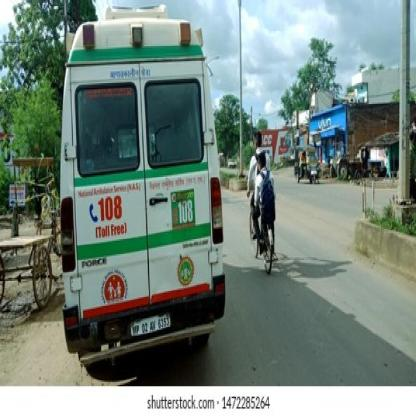priority: (60, 5, 226, 367)
